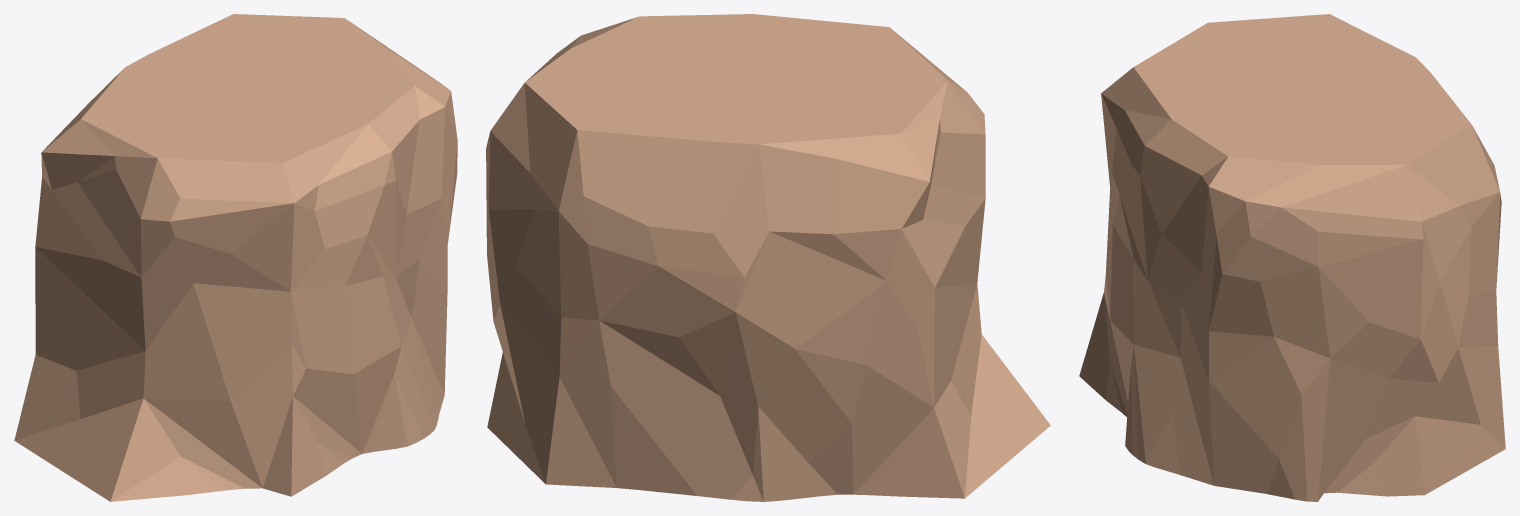
File: Cliff_Single.fbx
3 renders of one model, left to right at view 1: azimuth 30°, elevation 25°; view 2: azimuth 150°, elevation 25°; view 3: azimuth 270°, elevation 25°, orthographic. The views are drawn at different scales.
Visible parts, largest first — view 1: polySurface1; view 2: polySurface1; view 3: polySurface1.
Part boxes in pixels (<box>): polySurface1: <box>14,14,457,501</box>; polySurface1: <box>486,14,1050,501</box>; polySurface1: <box>1079,14,1505,501</box>.
Bounding box in the file's own units: 16.09 × 11.87 × 14.43.
